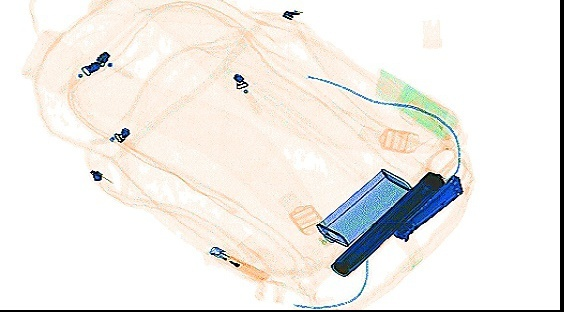knife: (390, 171, 463, 238)
lighter: (208, 244, 267, 283)
zippooil: (315, 166, 413, 248)
